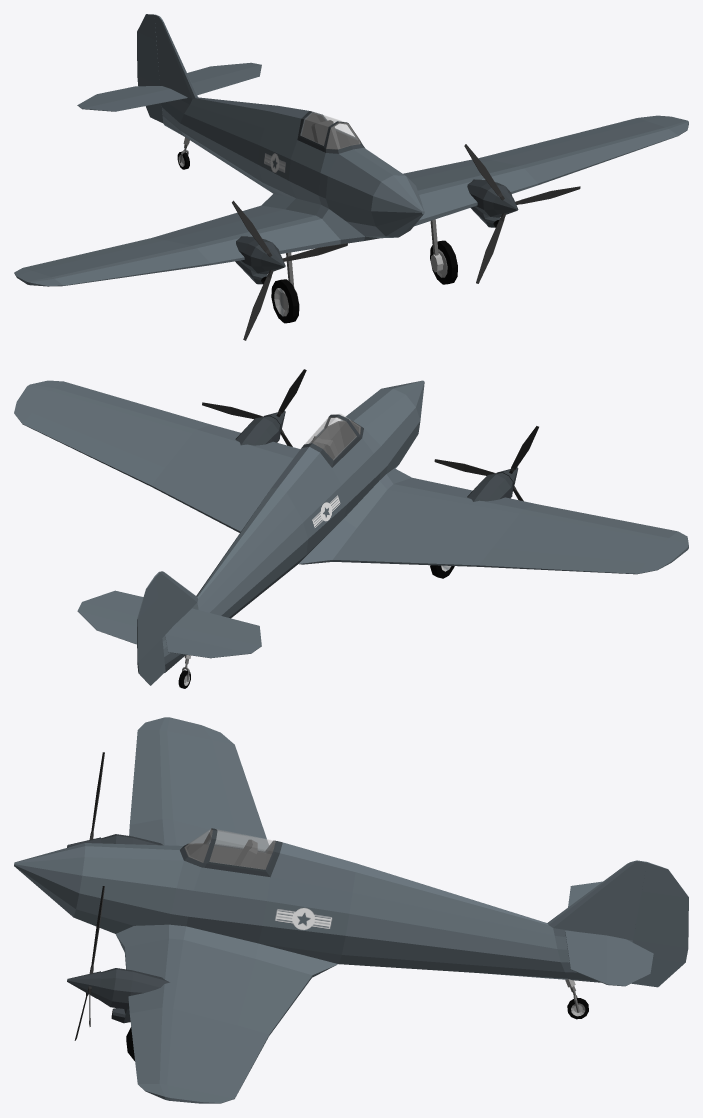
3 views of the same model, one above another, from view 1: azimuth 30°, elevation 25°; view 2: azimuth 150°, elevation 25°; view 3: azimuth 270°, elevation 25° (orthographic). The views are drawn at different scales.
Parts seen in each view (by area): view 1: Body.002, propeller.004, propeller.005, Rudder.002, Landing gear_FR.002, Landing gear_FL.002, Circle.003, L_ailerone.002, R_ailerone.002; view 2: Body.002, L_ailerone.002, R_ailerone.002, Rudder.002, Circle.003, R_elevator.002, propeller.004, propeller.005, L_elevator.002; view 3: Body.002, Rudder.002, R_ailerone.002, Circle.003, L_ailerone.002, propeller.004, L_elevator.002.
Part boxes in pixels (left/top/right/bottom): Body.002: left=14, top=14, right=688, bottom=286; propeller.004: left=464, top=144, right=580, bottom=283; propeller.005: left=232, top=200, right=347, bottom=340; Rudder.002: left=137, top=14, right=162, bottom=122; Landing gear_FR.002: left=271, top=252, right=299, bottom=323; Landing gear_FL.002: left=430, top=219, right=457, bottom=284; Circle.003: left=299, top=111, right=357, bottom=148; L_ailerone.002: left=479, top=118, right=645, bottom=160; R_ailerone.002: left=23, top=238, right=164, bottom=270; Body.002: left=14, top=380, right=688, bottom=672; L_ailerone.002: left=22, top=413, right=164, bottom=486; R_ailerone.002: left=479, top=547, right=646, bottom=574; Rudder.002: left=137, top=576, right=165, bottom=685; Circle.003: left=303, top=415, right=358, bottom=462; R_elevator.002: left=165, top=634, right=251, bottom=658; propeller.004: left=202, top=369, right=306, bottom=446; propeller.005: left=434, top=426, right=538, bottom=501; L_elevator.002: left=77, top=611, right=136, bottom=644; Body.002: left=14, top=717, right=646, bottom=1103; Rudder.002: left=631, top=862, right=688, bottom=987; R_ailerone.002: left=212, top=740, right=268, bottom=845; Circle.003: left=206, top=828, right=277, bottom=871; L_ailerone.002: left=212, top=1025, right=269, bottom=1098; propeller.004: left=67, top=886, right=104, bottom=1040; L_elevator.002: left=625, top=939, right=653, bottom=986.
Bounding box in the file's own units: 1627 × 379 × 1219.
